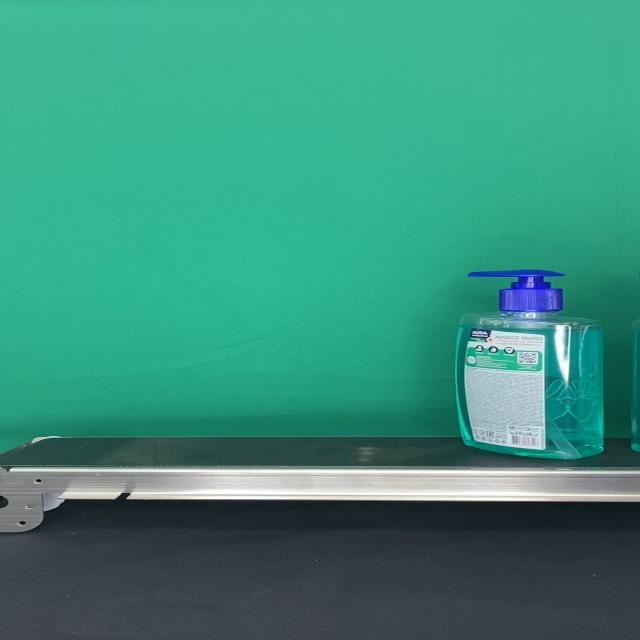Bottle: (454, 270, 604, 459)
Cap: (467, 270, 567, 312)
